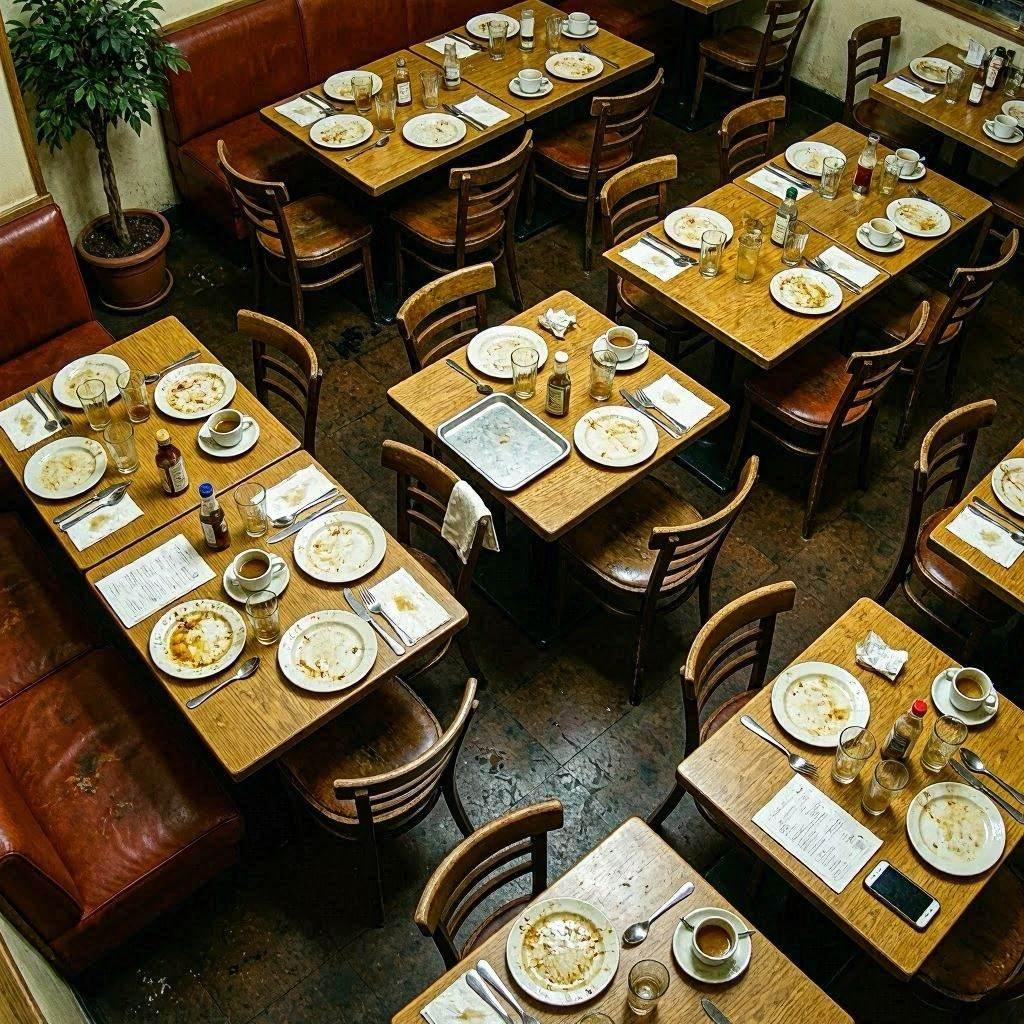dirty: (0, 342, 437, 732), (747, 550, 1010, 929), (600, 127, 1009, 318), (241, 9, 636, 163), (444, 303, 695, 496), (443, 903, 804, 1024)
